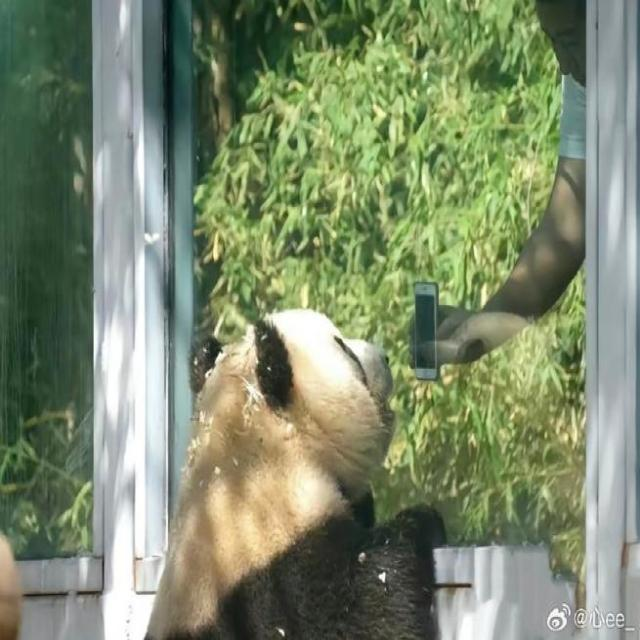panda: (133, 278, 475, 640)
